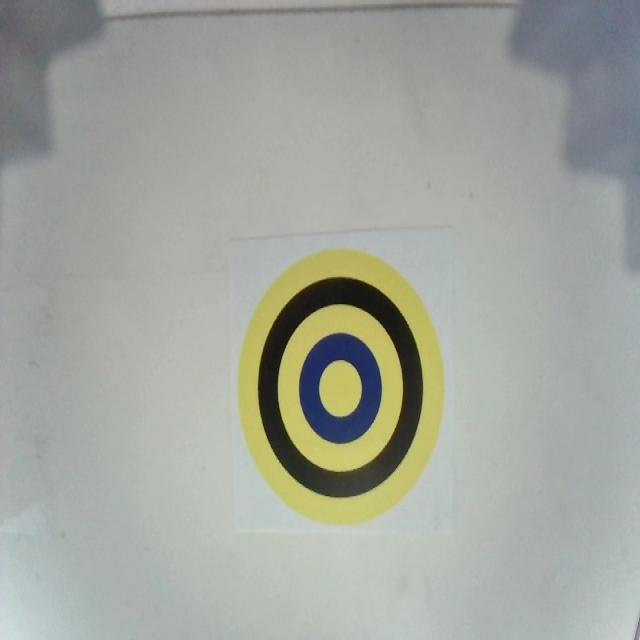cogn: (239, 245, 443, 524)
